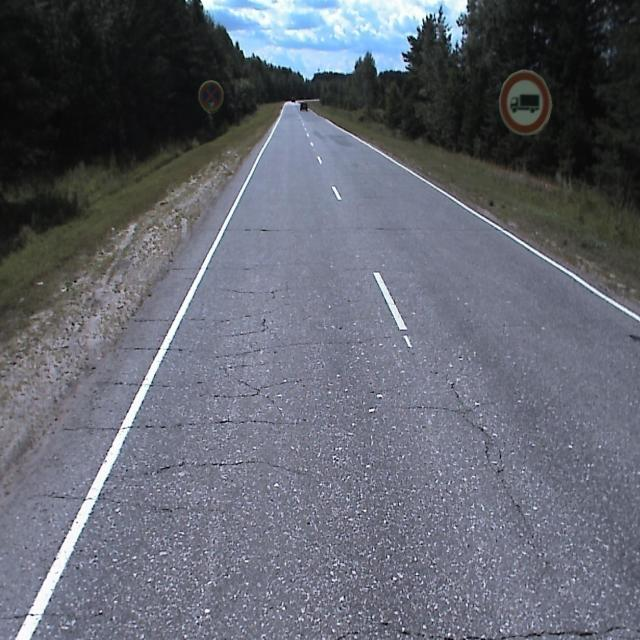road: (0, 105, 639, 639)
